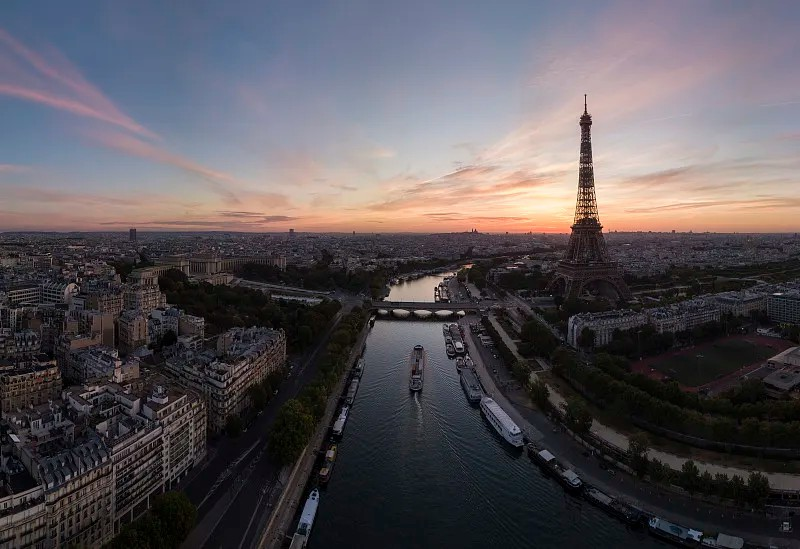Eiffel: (544, 94, 631, 310)
